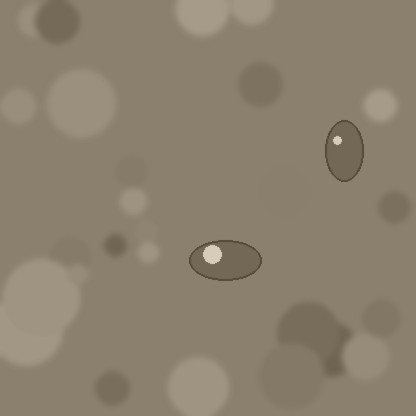gota: (189, 242, 261, 284), (325, 122, 363, 186)
